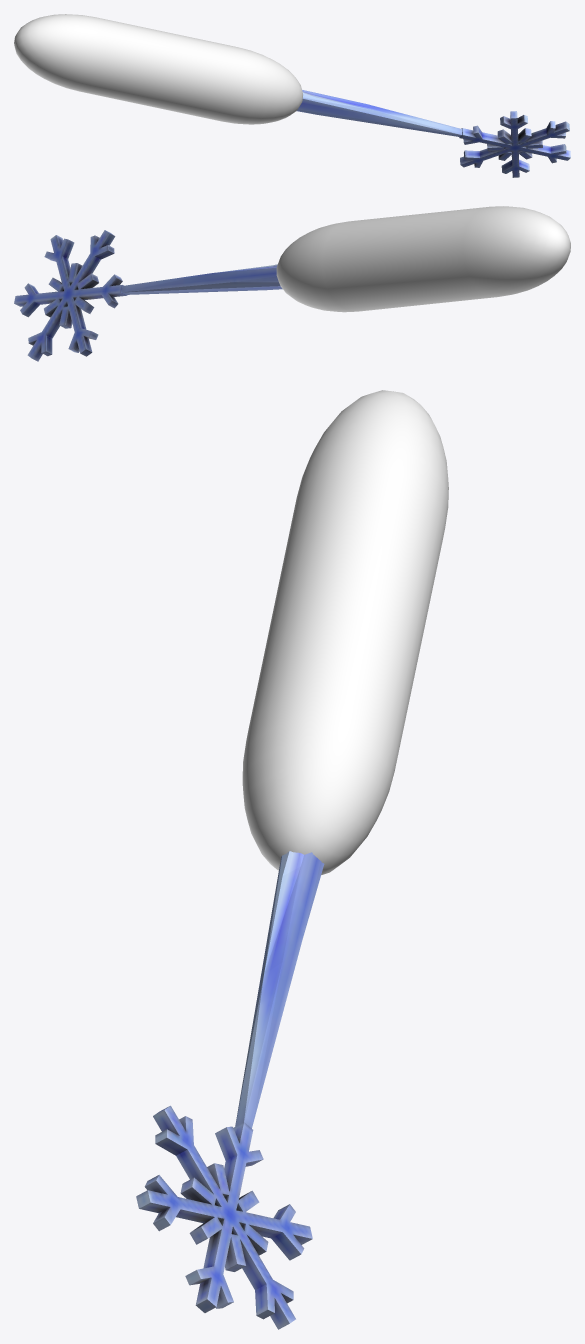
The model's file is SnowflakeWandAnchor.fbx.
The picture shows the model from 3 angles, top to bottom: view 1: azimuth 30°, elevation 25°; view 2: azimuth 150°, elevation 25°; view 3: azimuth 270°, elevation 25°; orthographic projection. The views are drawn at different scales.
Visible parts, largest first — view 1: Capsule, LMACQ_; view 2: Capsule, LMACQ_; view 3: Capsule, LMACQ_.
Part boxes in pixels (x1,y1,x2,y2): Capsule: [14, 14, 302, 124]; LMACQ_: [296, 90, 570, 177]; Capsule: [276, 206, 570, 312]; LMACQ_: [14, 230, 282, 361]; Capsule: [242, 390, 448, 874]; LMACQ_: [136, 851, 324, 1329].
Size of the model in its own units: 53.97 by 25.17 by 14.38.
